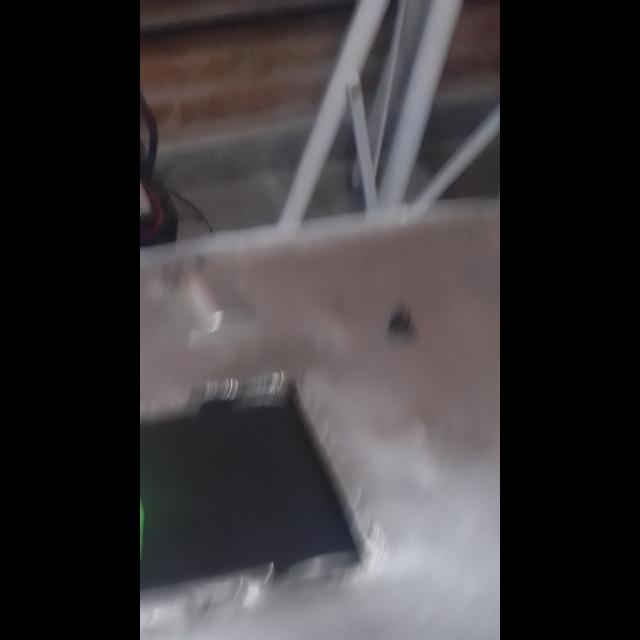greenBox: (140, 420, 152, 606)
